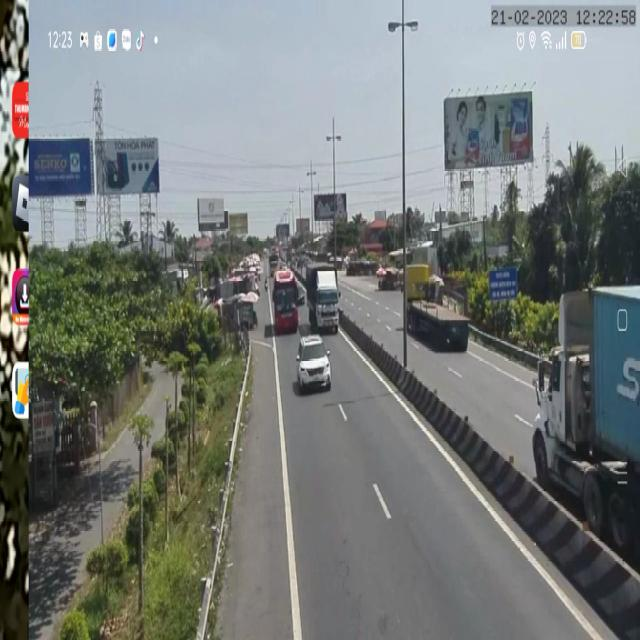bus: (272, 264, 298, 334)
car: (297, 332, 332, 394)
truck: (532, 285, 640, 568), (408, 264, 470, 356), (306, 263, 338, 335)
